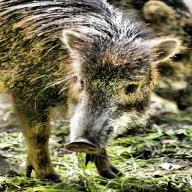boar: (12, 0, 187, 171)
